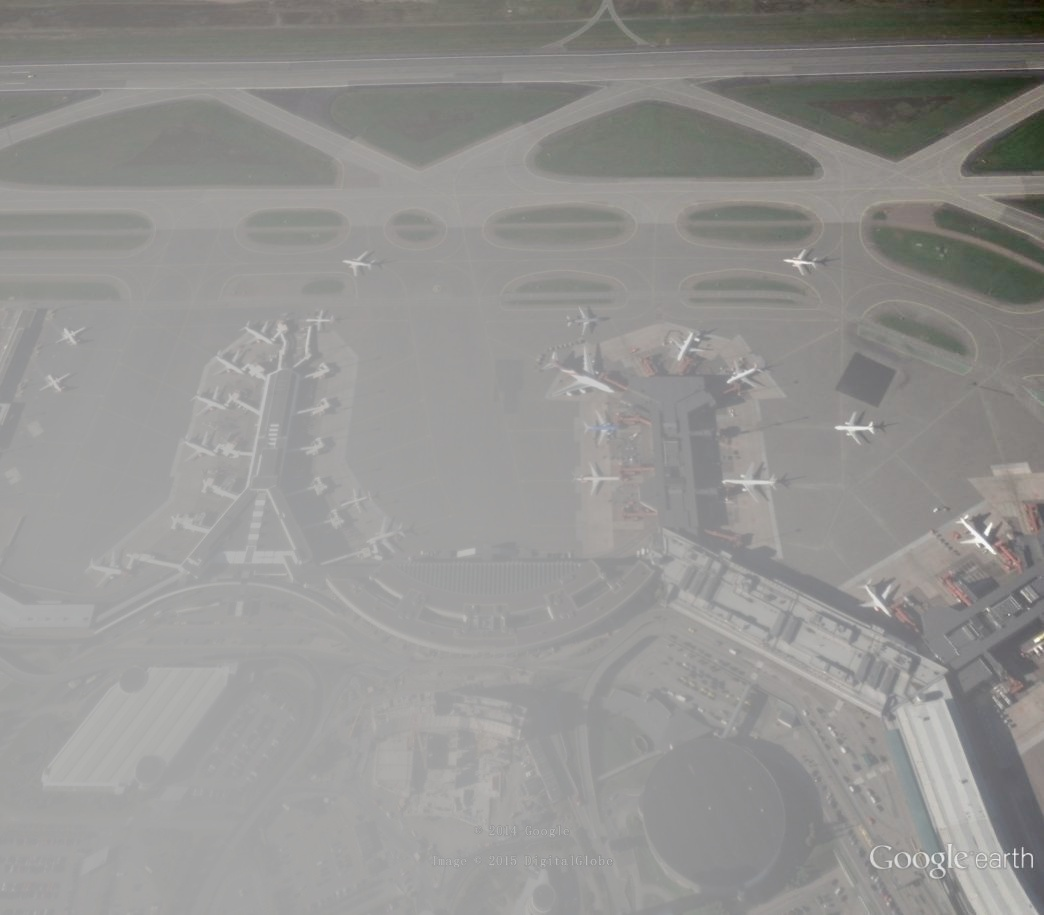aircraft: (534, 339, 621, 402), (717, 462, 783, 511), (948, 508, 1005, 558), (571, 457, 627, 502), (852, 573, 900, 622), (84, 547, 135, 592), (364, 511, 411, 558), (831, 411, 879, 453), (664, 327, 712, 366), (721, 360, 772, 396), (577, 409, 621, 448), (564, 304, 609, 342), (175, 430, 220, 466), (205, 348, 250, 381), (781, 246, 822, 282), (337, 484, 379, 519), (187, 384, 229, 418), (237, 316, 277, 351), (339, 247, 378, 279), (300, 307, 340, 336), (51, 324, 91, 351), (39, 369, 75, 399)
